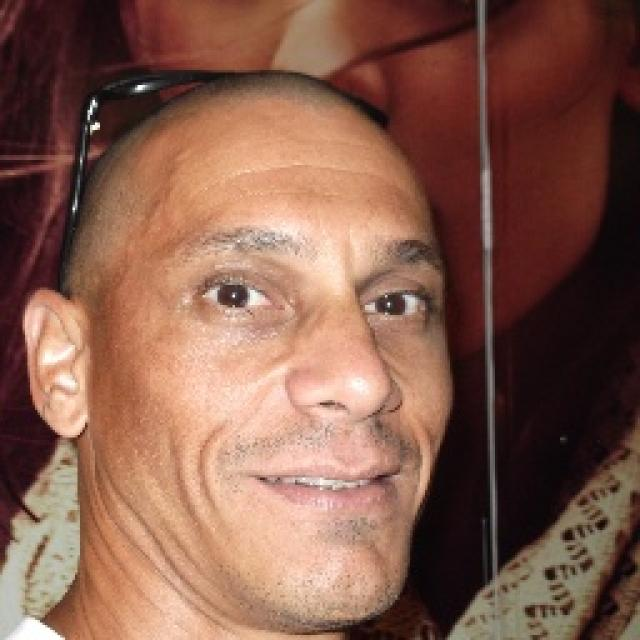earlobe: (22, 286, 92, 439)
